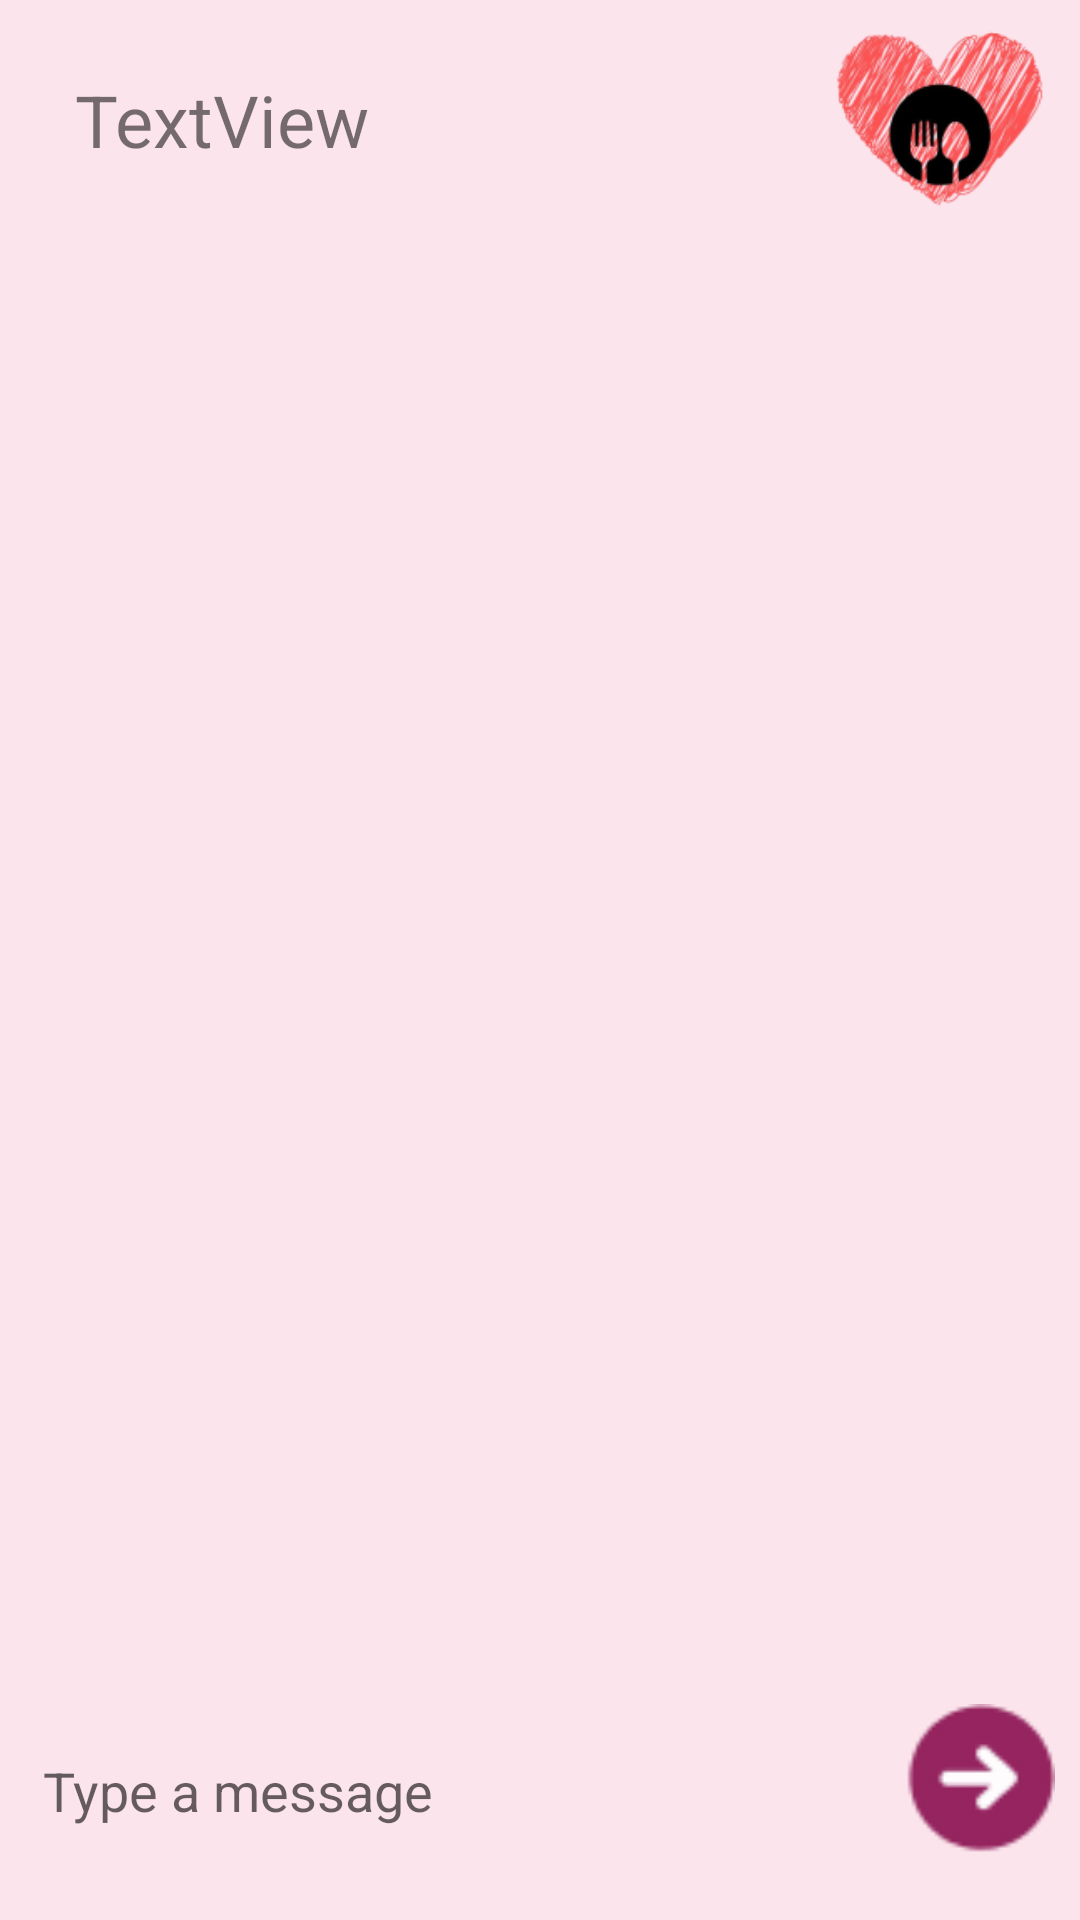

Named icons in this screenshot (1080x1920) and their bounding boxes, (x1, y1, x2, y2):
send: (908, 1704, 1055, 1851)
